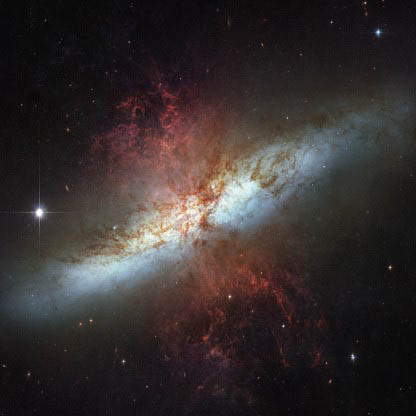Messier 82: (24, 62, 399, 340)
